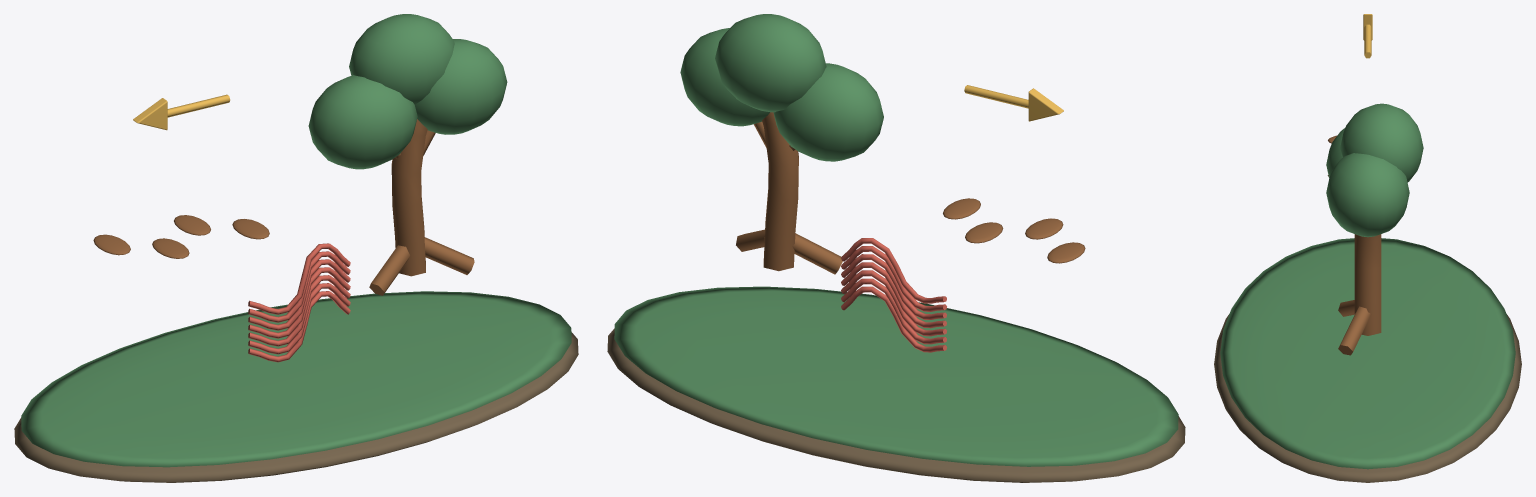
File: complete-first-long-object-counter.glb
3 views of the same model, side by side, from view 1: azimuth 30°, elevation 25°; view 2: azimuth 150°, elevation 25°; view 3: azimuth 270°, elevation 25° (orthographic). The views are drawn at different scales.
Visible parts, largest first — view 1: complete-first-long-object-counter_surface_01, complete-first-long-object-counter_surface_00, complete-first-long-object-counter_surface_02, complete-first-long-object-counter_surface_03, complete-first-long-object-counter_surface_04; view 2: complete-first-long-object-counter_surface_01, complete-first-long-object-counter_surface_00, complete-first-long-object-counter_surface_02, complete-first-long-object-counter_surface_03, complete-first-long-object-counter_surface_04; view 3: complete-first-long-object-counter_surface_01, complete-first-long-object-counter_surface_00, complete-first-long-object-counter_surface_02, complete-first-long-object-counter_surface_04.
Part boxes in pixels (box(x1,y1,x2,y2)): complete-first-long-object-counter_surface_01: box(21, 14, 571, 467); complete-first-long-object-counter_surface_00: box(14, 332, 578, 482); complete-first-long-object-counter_surface_02: box(93, 119, 474, 295); complete-first-long-object-counter_surface_03: box(248, 243, 350, 362); complete-first-long-object-counter_surface_04: box(133, 94, 230, 130); complete-first-long-object-counter_surface_01: box(614, 14, 1178, 466); complete-first-long-object-counter_surface_00: box(607, 328, 1185, 482); complete-first-long-object-counter_surface_02: box(736, 112, 1085, 274); complete-first-long-object-counter_surface_03: box(841, 238, 946, 352); complete-first-long-object-counter_surface_04: box(964, 85, 1063, 121); complete-first-long-object-counter_surface_01: box(1220, 103, 1515, 469); complete-first-long-object-counter_surface_00: box(1214, 314, 1521, 482); complete-first-long-object-counter_surface_02: box(1327, 135, 1381, 355); complete-first-long-object-counter_surface_04: box(1363, 14, 1372, 58).
Bounding box in the file's own units: 4.56 × 2.87 × 2.5.
